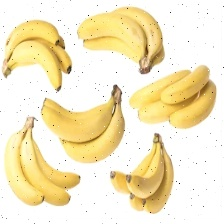banana: (38, 21, 190, 195)
